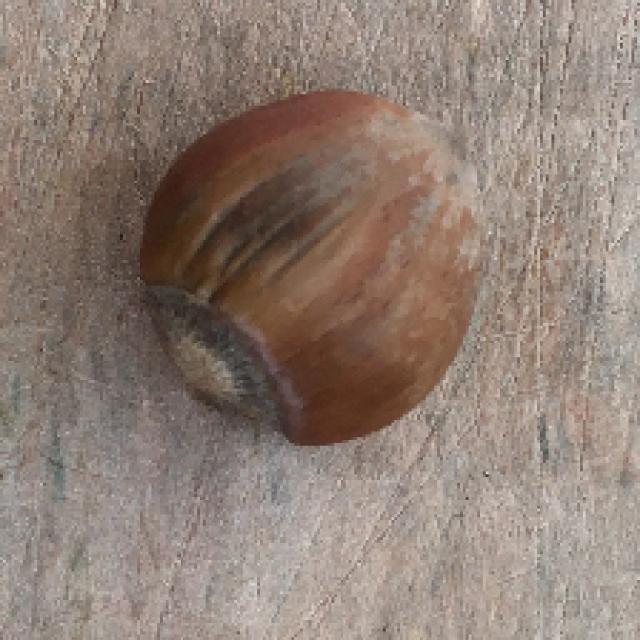qualityHazelnut: (145, 82, 500, 446)
